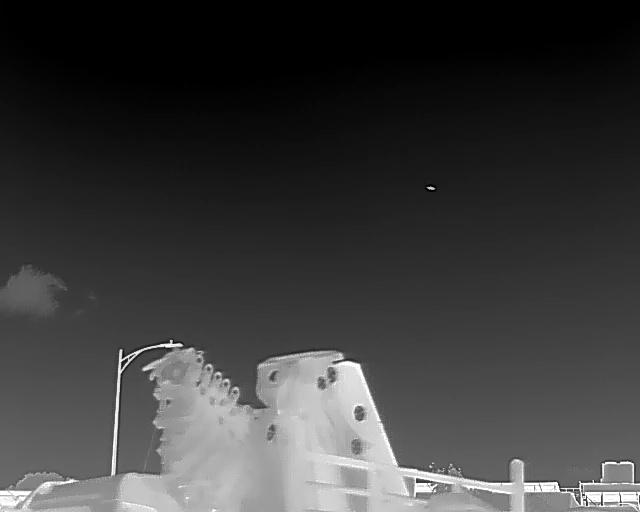fpv-drone: (425, 184, 436, 191)
